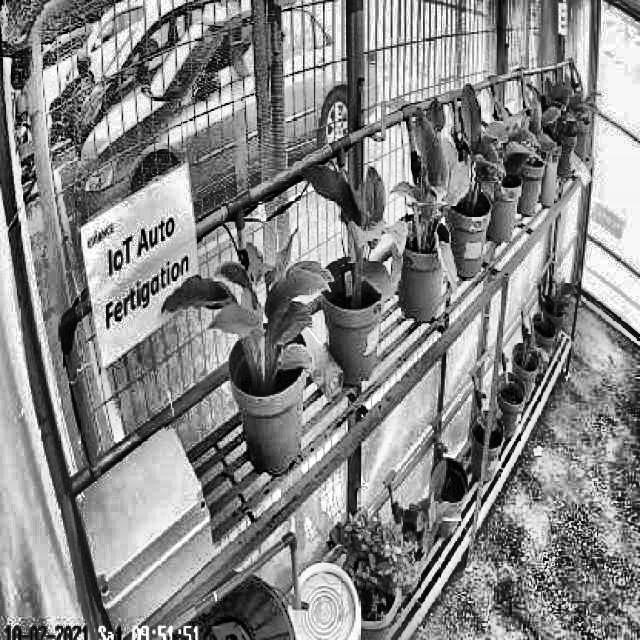plants: (162, 225, 336, 386), (302, 154, 402, 306), (387, 94, 462, 288), (439, 78, 507, 227)
